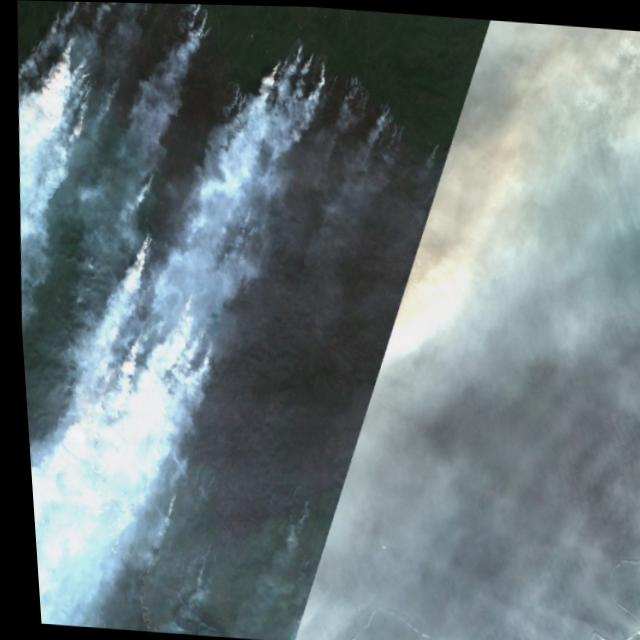fire: (247, 31, 419, 146), (9, 0, 124, 140), (166, 276, 222, 365), (124, 170, 157, 264), (165, 3, 225, 40)
